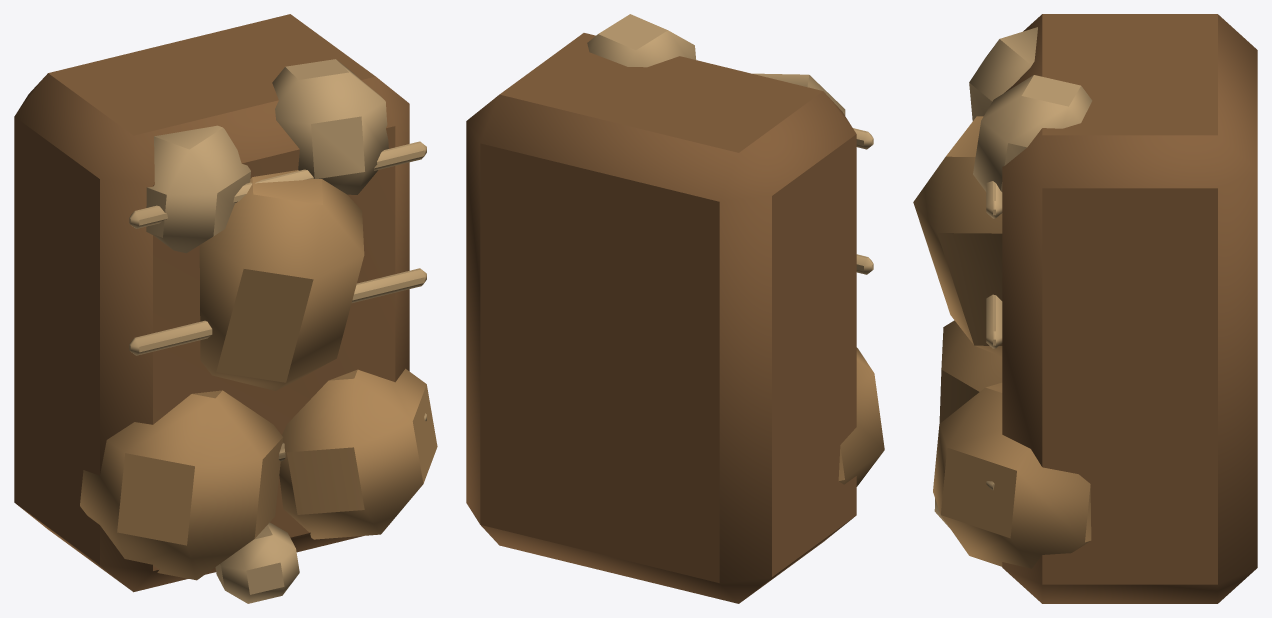
Rendered from cv_sand_wall_2.glb.
3 renders of one model, left to right at view 1: azimuth 30°, elevation 25°; view 2: azimuth 150°, elevation 25°; view 3: azimuth 270°, elevation 25°, orthographic. The views are drawn at different scales.
Visible parts, largest first — view 1: body; view 2: body; view 3: body.
Part boxes in pixels (<box>): body: <box>14,14,437,603</box>; body: <box>466,14,884,603</box>; body: <box>913,14,1257,603</box>.
Size of the model in its own units: 2.44 by 3.41 by 2.16.
